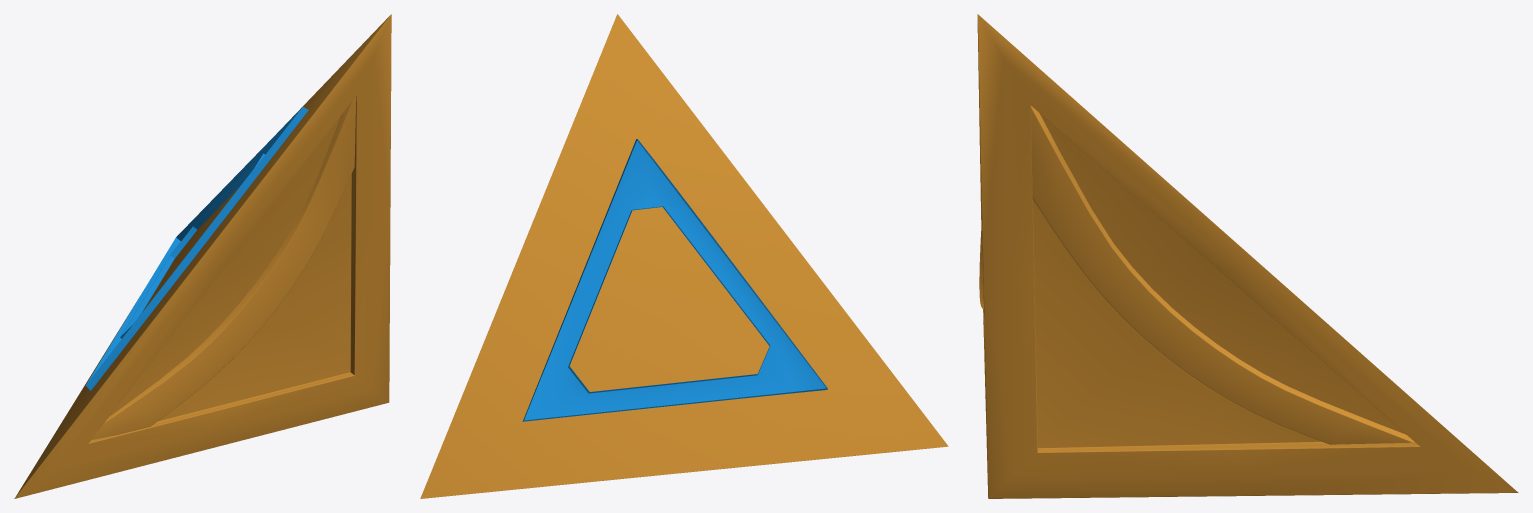
The model's file is esquina_5.obj.
3 renders of one model, left to right at view 1: azimuth 30°, elevation 25°; view 2: azimuth 150°, elevation 25°; view 3: azimuth 270°, elevation 25°, orthographic. The views are drawn at different scales.
Visible parts, largest first — view 1: esquina_5; view 2: esquina_5; view 3: esquina_5.
Boxes of the visible parts, left/top/right/bottom form: esquina_5: left=14, top=14, right=391, bottom=498; esquina_5: left=420, top=14, right=948, bottom=498; esquina_5: left=977, top=14, right=1518, bottom=498.
Bounding box in the file's own units: 5.17 × 5.15 × 5.19.
